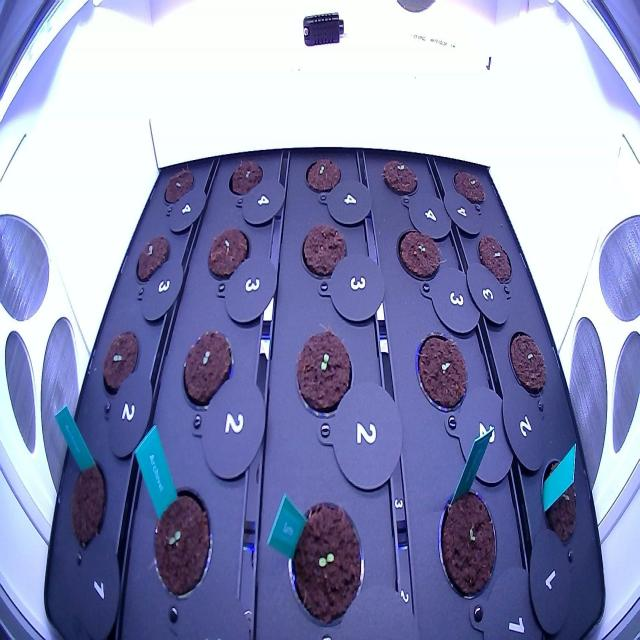germination: (282, 498, 370, 628), (147, 474, 215, 610), (433, 479, 504, 606), (294, 327, 358, 422), (180, 319, 236, 420), (415, 325, 471, 419), (535, 451, 586, 552), (98, 323, 144, 403), (392, 217, 442, 285), (227, 148, 270, 202), (475, 231, 515, 289), (301, 149, 344, 197), (379, 154, 420, 203)
pod: (67, 447, 111, 555), (299, 211, 349, 287), (506, 323, 551, 400), (204, 218, 252, 286), (131, 229, 173, 287), (160, 164, 199, 210), (450, 166, 488, 208)
